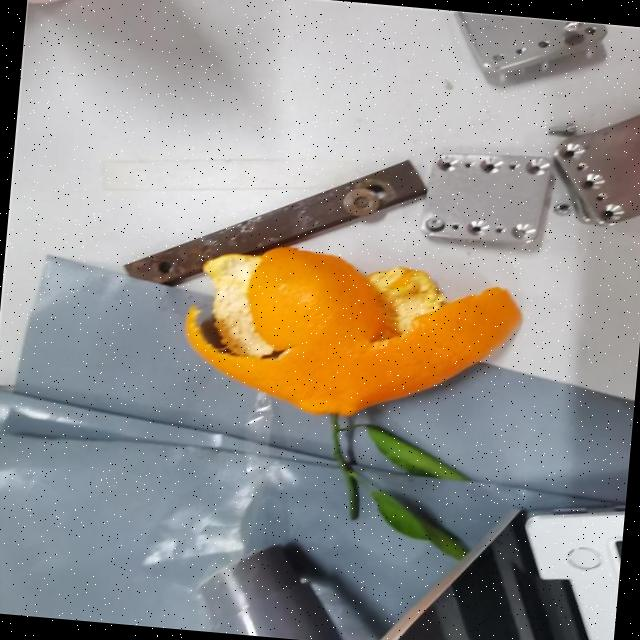orange-peel: (176, 236, 526, 432)
